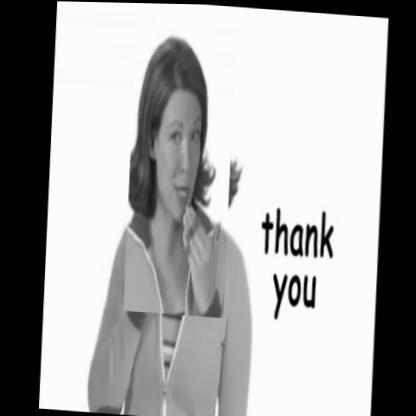ThankYou: (121, 21, 237, 317)
